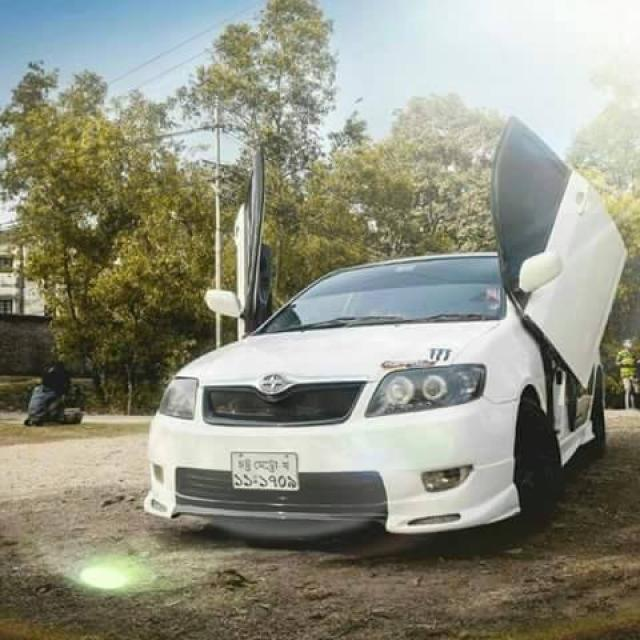numberplate: (229, 449, 300, 492)
